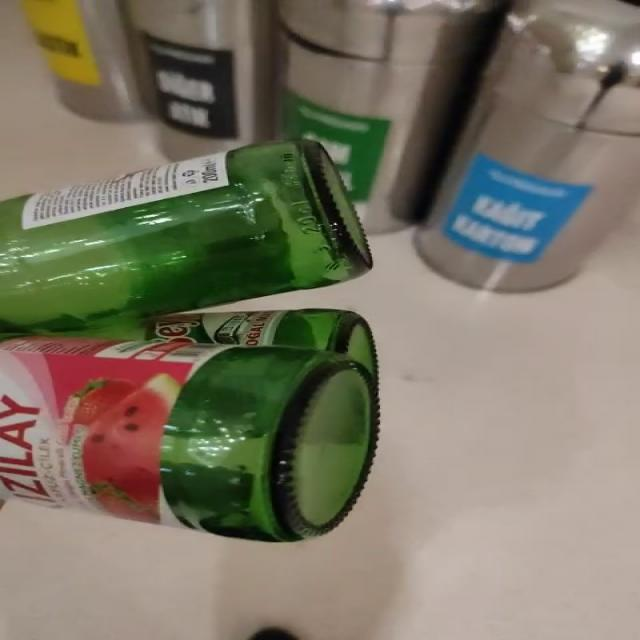glass: (0, 140, 379, 543)
